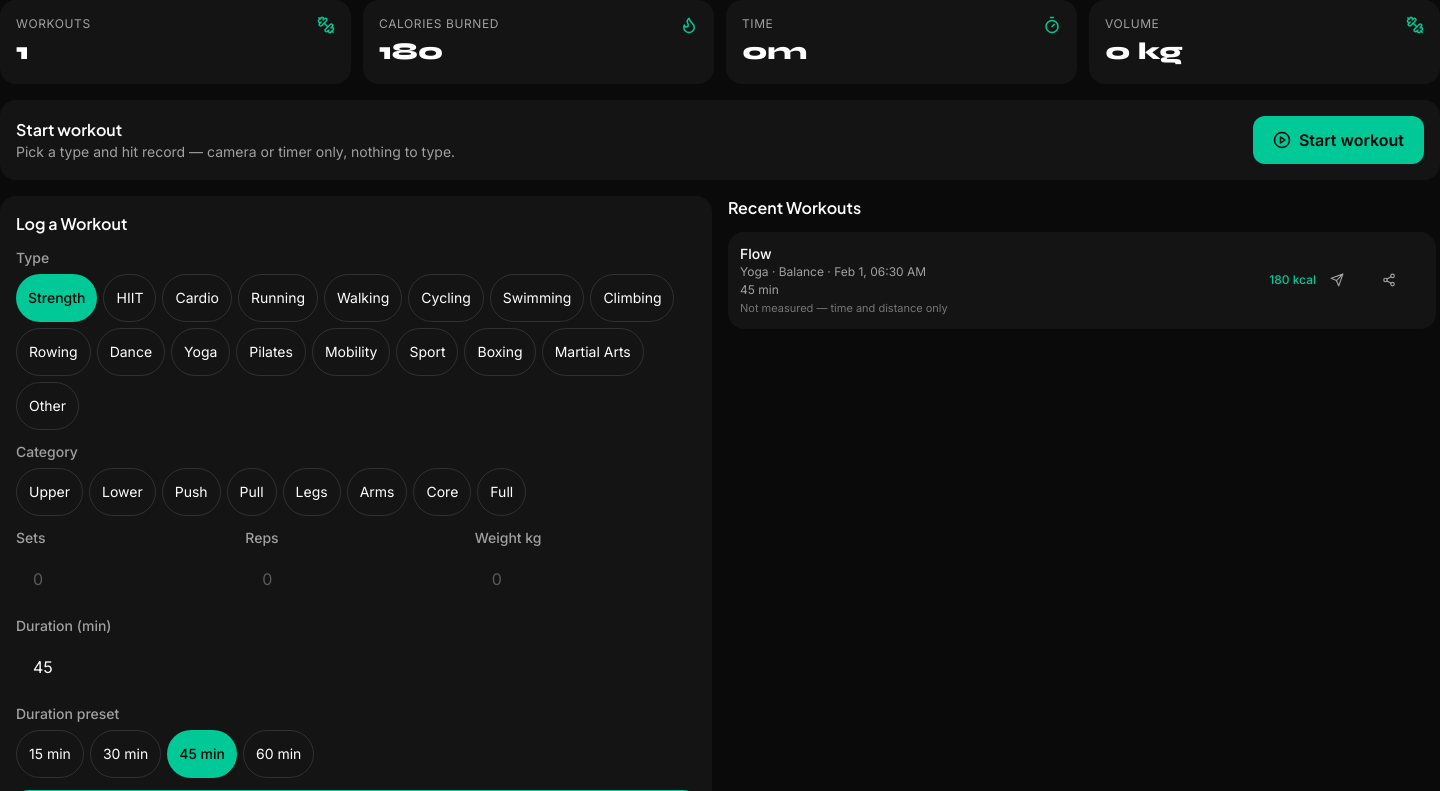
Test: WorkoutsTab field visibility › shows distance + calories and no category chips for cardio
Expected: the number field labelled "Sets" is shown, [16,554,237,604]
Click the button "Cardio".
click(197, 298)  # box [162,274,232,322]
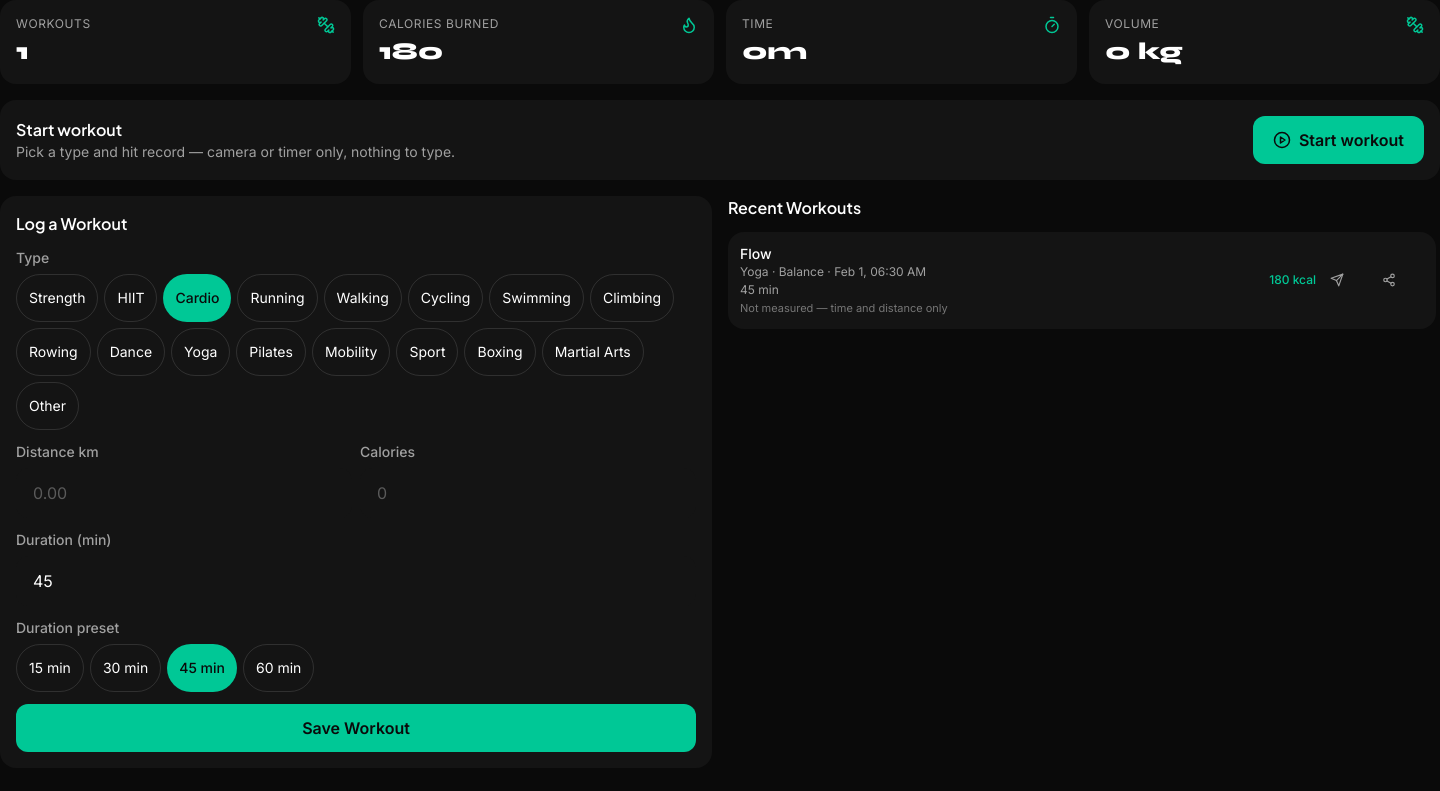
Expected: the number field labelled "Distance km" is shown, [16,468,352,518]
Expected: the number field labelled "Calories" is shown, [360,468,696,518]
Expected: the text "Category" is gone
